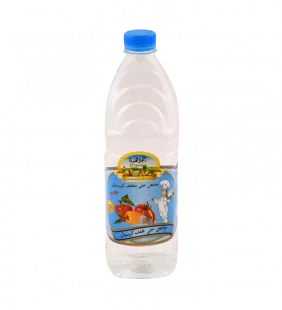EL JAWHARA: (99, 20, 188, 285)
